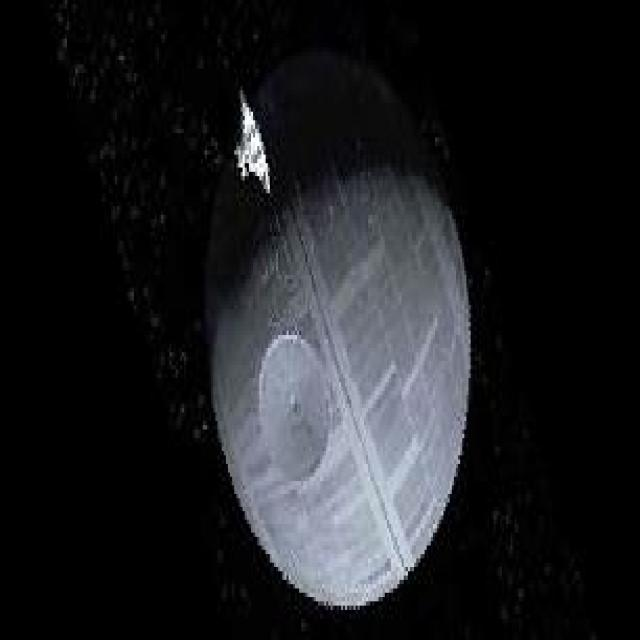Death Star: (192, 55, 488, 612)
